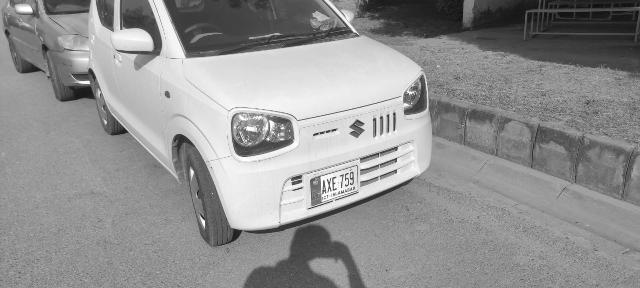Number: (321, 170, 355, 196)
